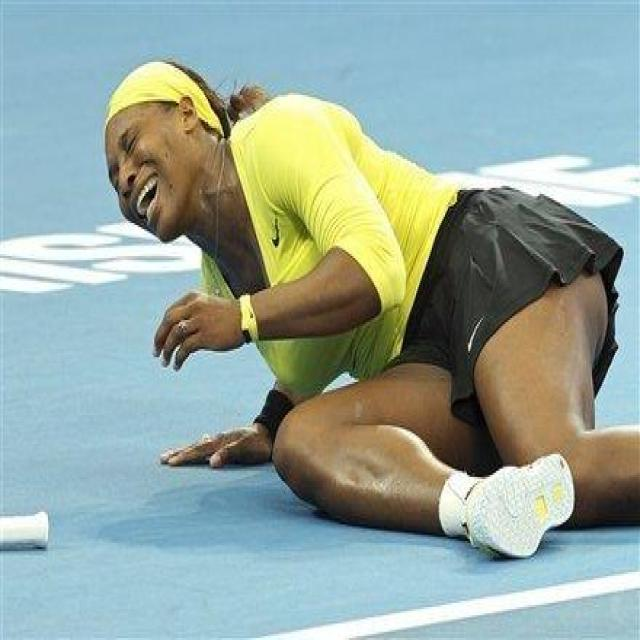down: (90, 40, 637, 558)
